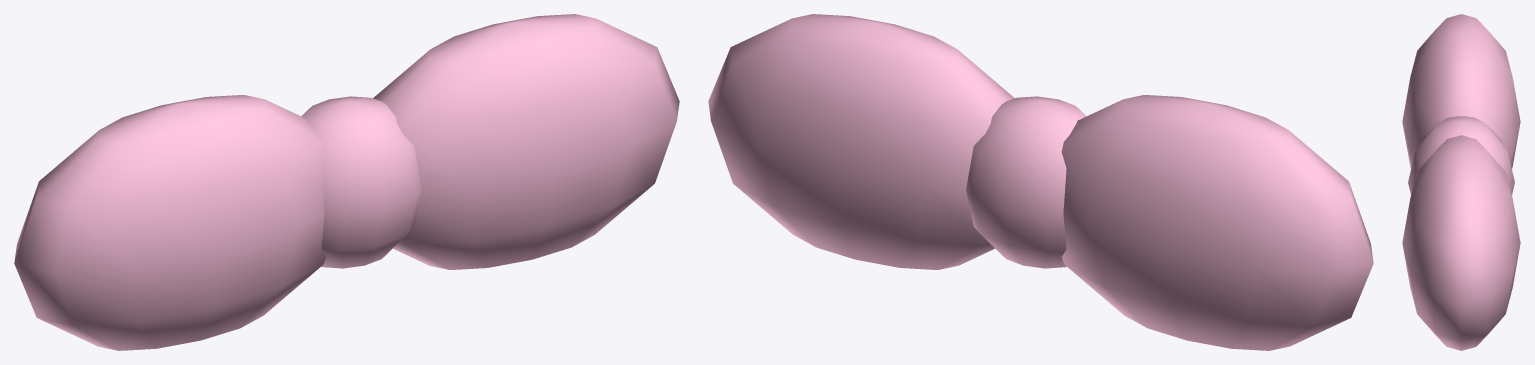
The model's file is cat_bow.glb.
3 renders of one model, left to right at view 1: azimuth 30°, elevation 25°; view 2: azimuth 150°, elevation 25°; view 3: azimuth 270°, elevation 25°, orthographic. The views are drawn at different scales.
Parts seen in each view (by area): view 1: cat_bow; view 2: cat_bow; view 3: cat_bow.
Part boxes in pixels (x1,y1,x2,y2): cat_bow: (14, 14, 679, 350); cat_bow: (708, 14, 1373, 350); cat_bow: (1402, 14, 1520, 350).
Bounding box in the file's own units: 0.1012 × 0.0346 × 0.0208.
